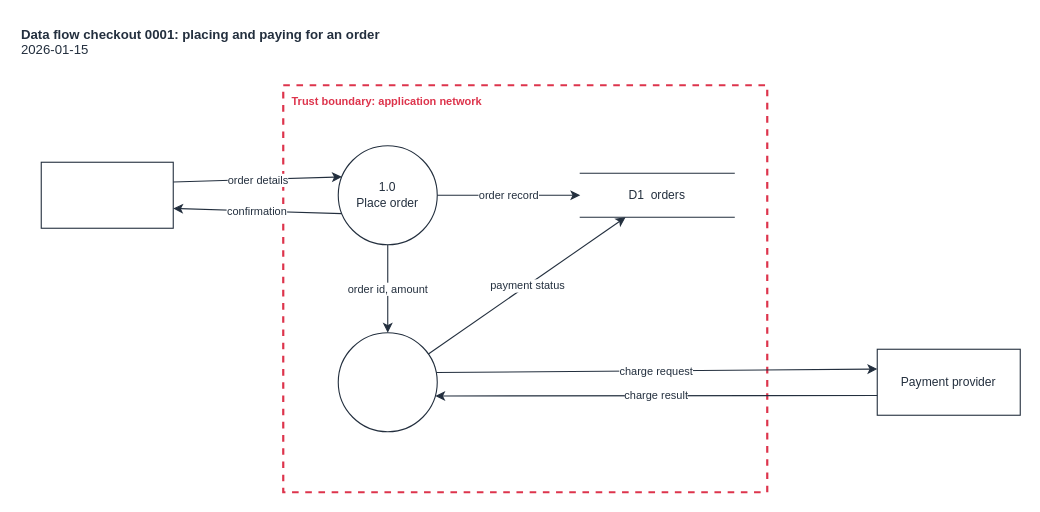
Some shapes in this 1040 by 512 pixel diagram are drawn without their labels. The shapes that lost their labels are listed below. From the top down, each one's box as (x1, y1, x2, y2) in pixels, then its label:
(40, 161, 173, 228): Customer
(337, 332, 437, 432): 2.0 Charge payment
